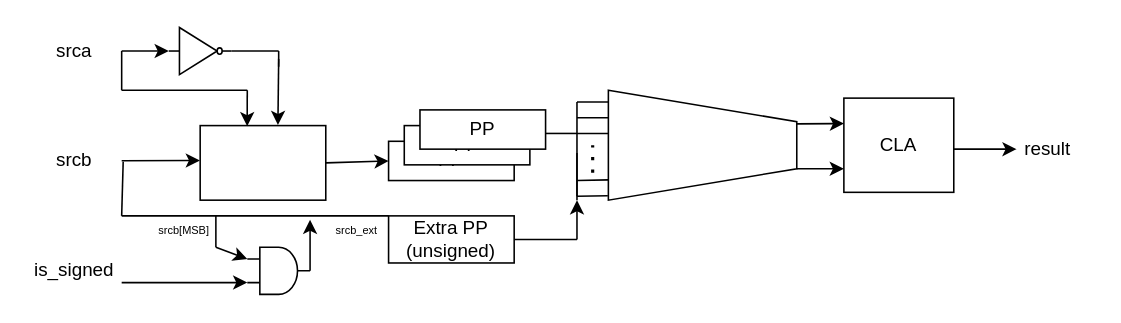
The diagram is 1121 pixels wide and 323 high, and some of its shapes have lost their labels. Here are the shapes that lost their labels. From the top down, the centre of each, then its label:
the point at 262,162: Booth radix-4 enc
the point at 702,144: Wallace tree
